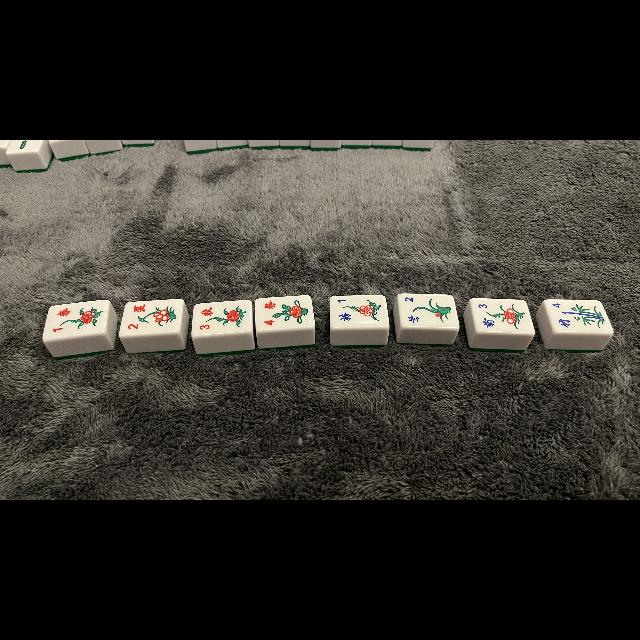f1: (332, 296, 352, 328)
f2: (399, 293, 423, 327)
f3: (474, 298, 498, 334)
f4: (550, 300, 572, 332)
s1: (47, 303, 75, 337)
s2: (126, 300, 150, 332)
s3: (196, 302, 218, 332)
s4: (258, 298, 282, 332)
